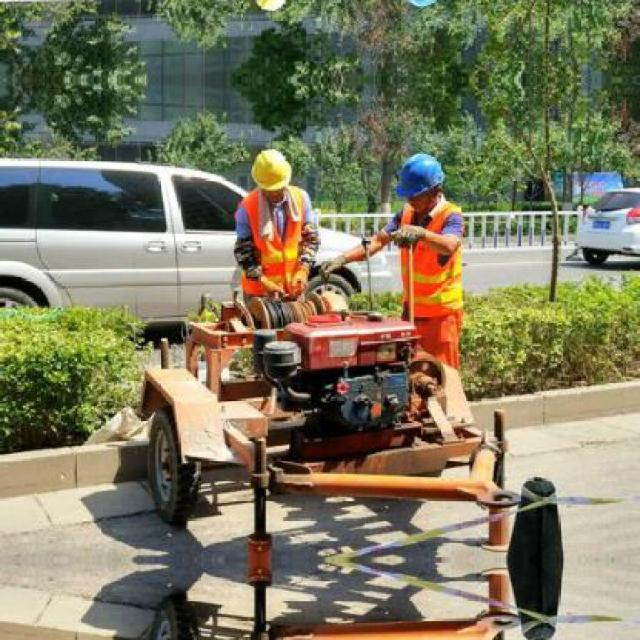helmet: (389, 145, 451, 221), (252, 147, 293, 201), (389, 0, 452, 15), (251, 0, 294, 14)
